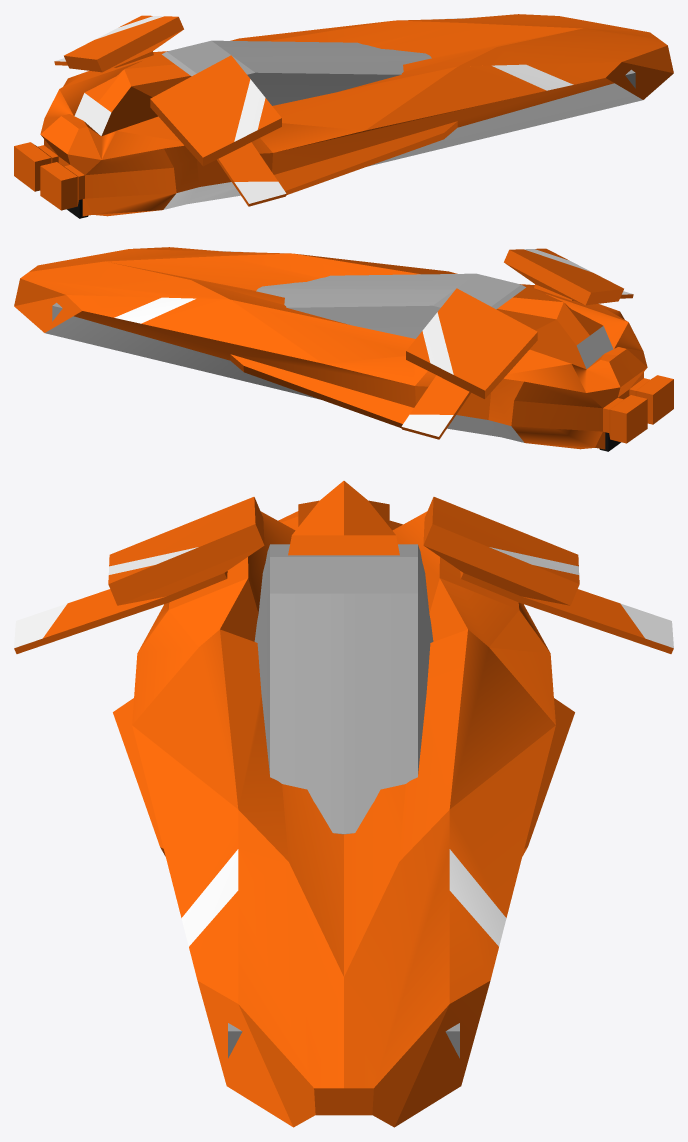
The model's file is AphexMajor.obj.
The picture shows the model from 3 angles, top to bottom: view 1: azimuth 30°, elevation 25°; view 2: azimuth 150°, elevation 25°; view 3: azimuth 270°, elevation 25°; orthographic projection. The views are drawn at different scales.
Parts seen in each view (by area): view 1: car, pilot; view 2: car, pilot; view 3: car, pilot.
Boxes of the visible parts, x1=… form: car: x1=14, y1=14, x2=673, y2=216; pilot: x1=162, y1=40, x2=431, y2=105; car: x1=14, y1=247, x2=673, y2=449; pilot: x1=256, y1=273, x2=525, y2=338; car: x1=14, y1=481, x2=673, y2=1127; pilot: x1=254, y1=544, x2=433, y2=834.
Size of the model in its own units: 13.88 by 2.93 by 7.59.
